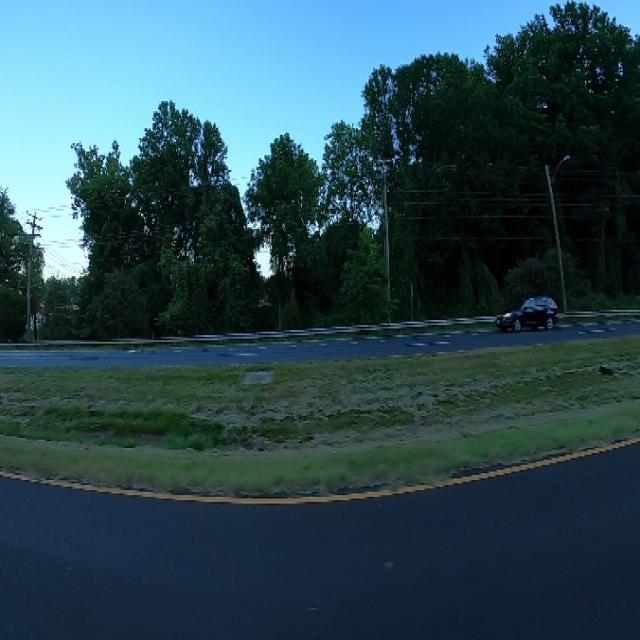cars: (492, 286, 569, 338)
